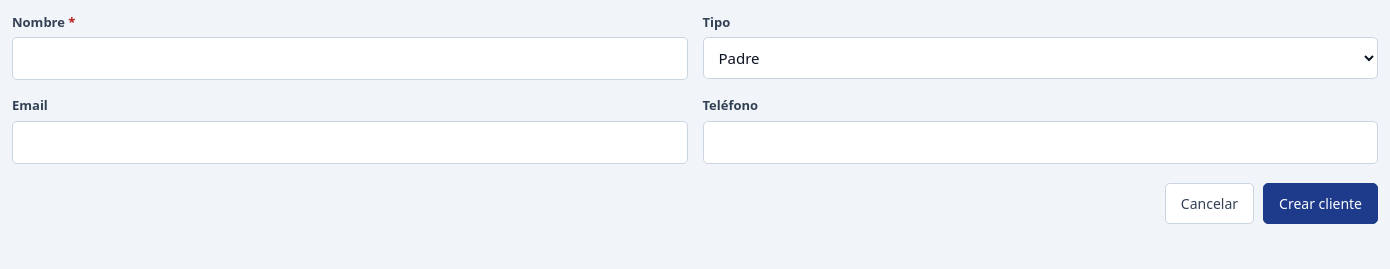
Test: Formulario · campos clave › borra el error del campo en cuanto el usuario lo corrige
The width and height of the screenshot is (1390, 269).
Click the button "Crear cliente" at (1320, 204), box x1=1263 y1=183 x2=1378 y2=224
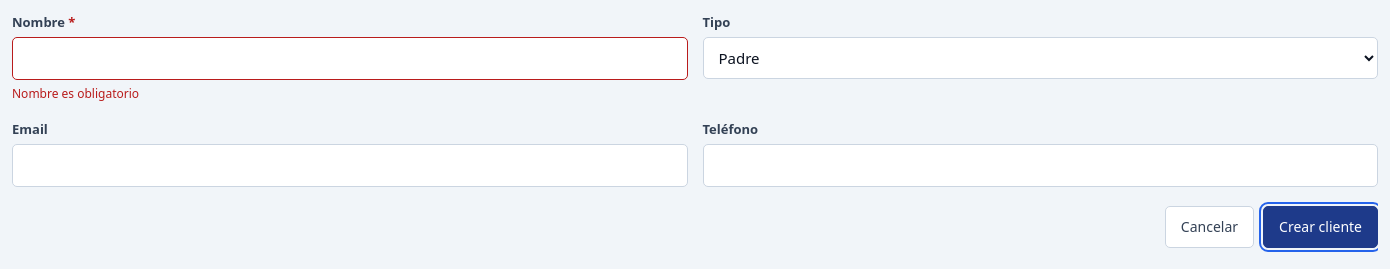
Result: the text "Nombre es obligatorio" is shown at x1=12 y1=85 x2=139 y2=102
Type "Ana" into the field labelled "Nombre *" at (350, 59), box x1=12 y1=37 x2=688 y2=80
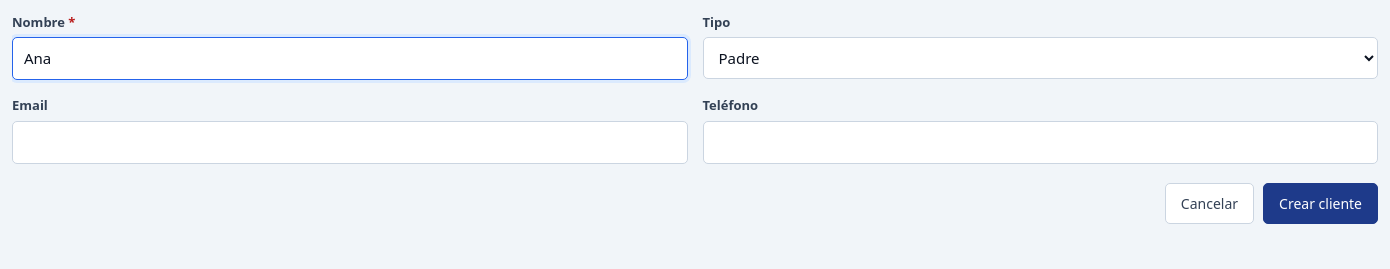
Result: the text "Nombre es obligatorio" is gone
